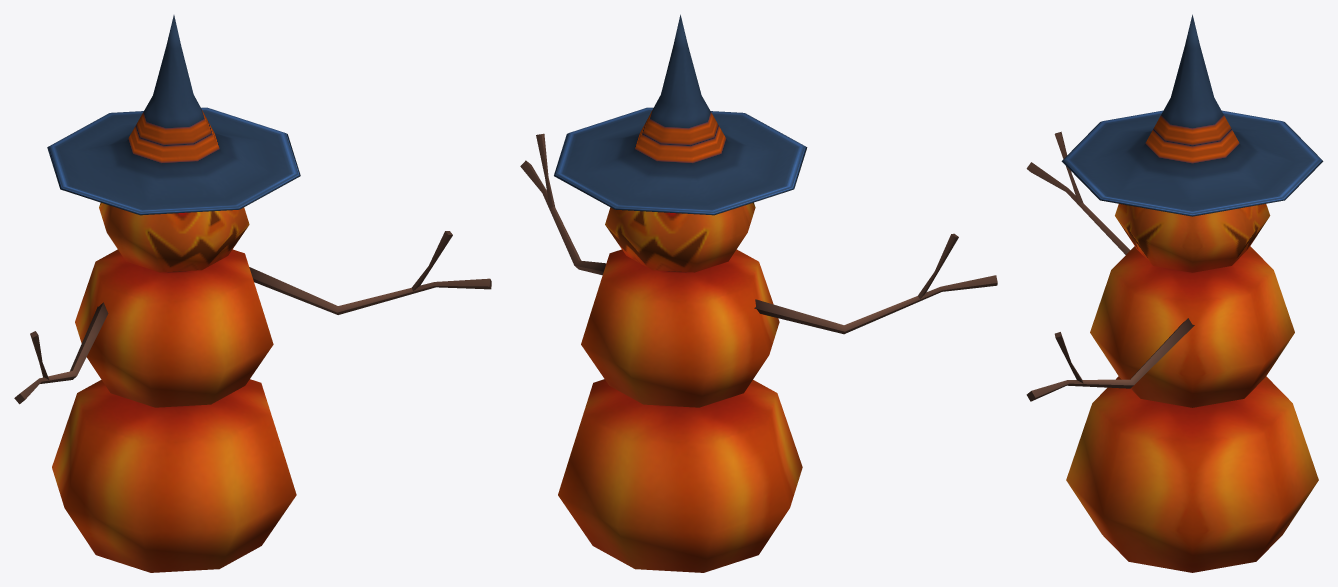
The model's file is Pumpkin_Scarecrow.FBX.
3 renders of one model, left to right at view 1: azimuth 30°, elevation 25°; view 2: azimuth 150°, elevation 25°; view 3: azimuth 270°, elevation 25°, orthographic.
Visible parts, largest first — view 1: Pumpkin_Scarecrow; view 2: Pumpkin_Scarecrow; view 3: Pumpkin_Scarecrow.
Boxes of the visible parts, x1,y1,x2,y2 form: Pumpkin_Scarecrow: [14, 15, 491, 572]; Pumpkin_Scarecrow: [520, 14, 997, 572]; Pumpkin_Scarecrow: [1026, 14, 1323, 572].
Size of the model in its own units: 141 by 151 by 76.25.
